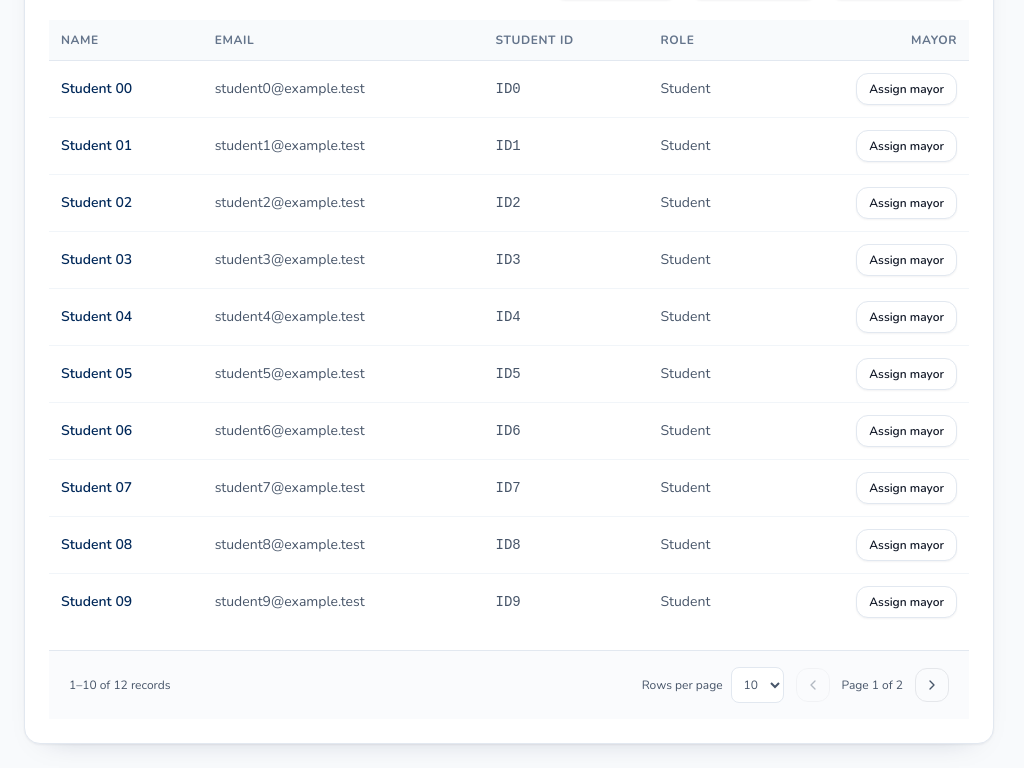
Test case: loads the member registry without changing hook order, paginates and resets when searching
(page scrolled)
Click the button named "Next page" at (932, 685), box [915,668,949,702]
(page scrolled)
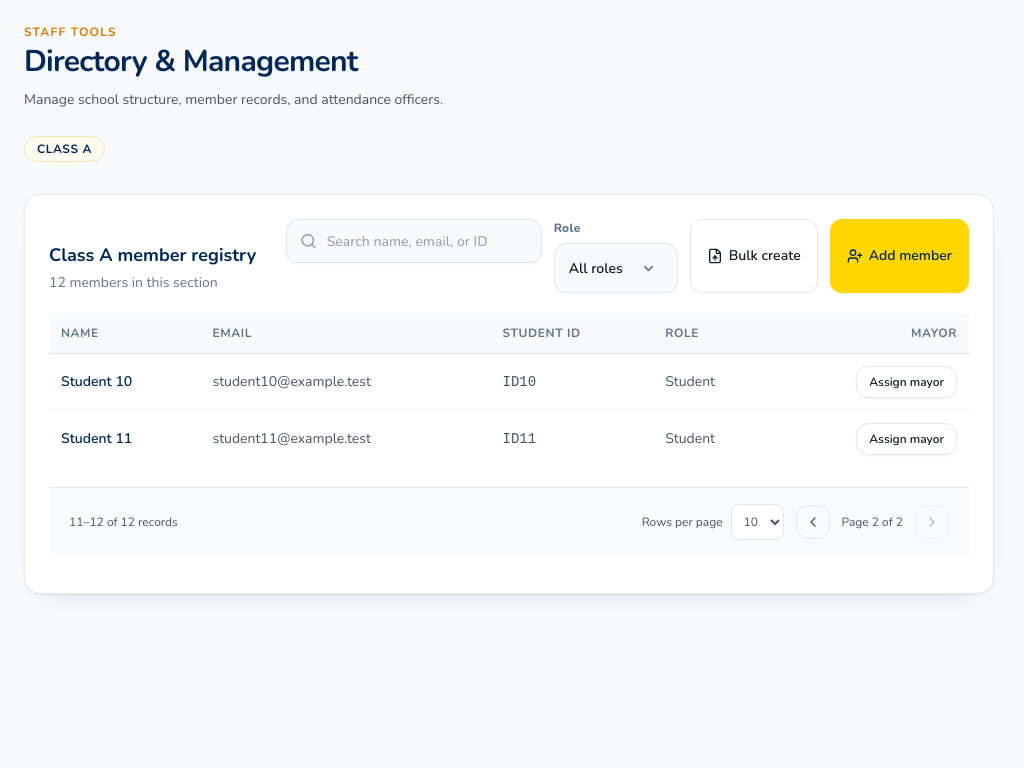
Check: the number of rows is 3, box [49,313,969,354]; [49,354,969,410]; [49,410,969,467]
Type "Student 02" into the search field named "Search section members" at (414, 241), box [286,219,542,263]
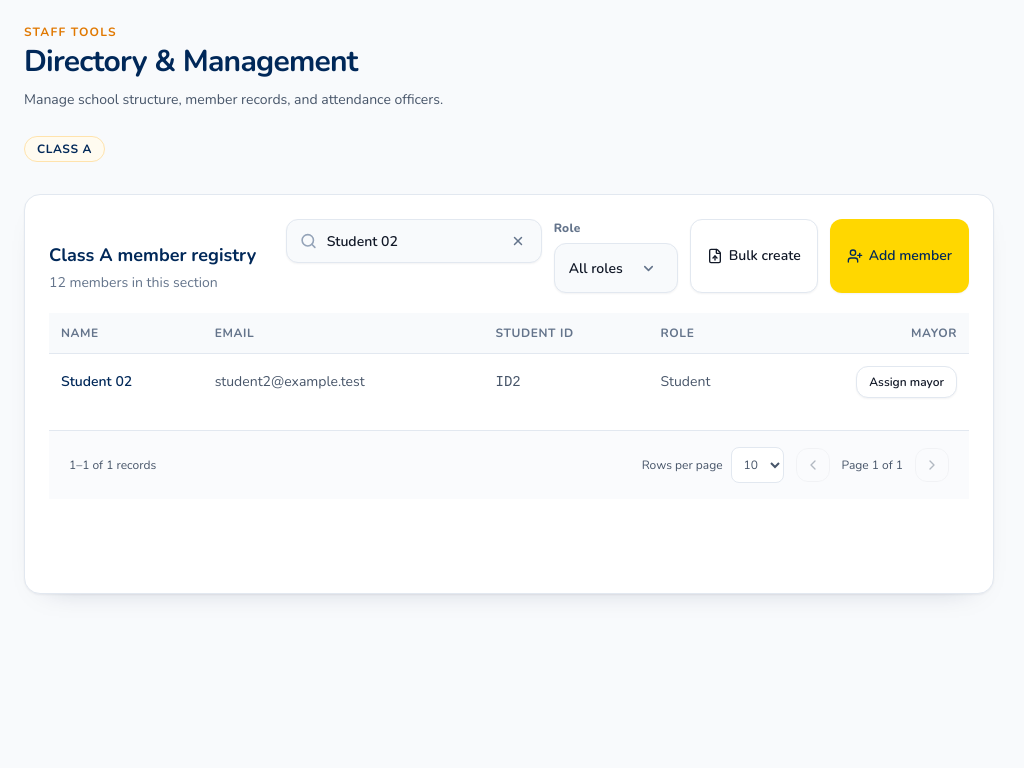
Check: the number of rows is 2, box [49,313,969,354]; [49,354,969,410]
